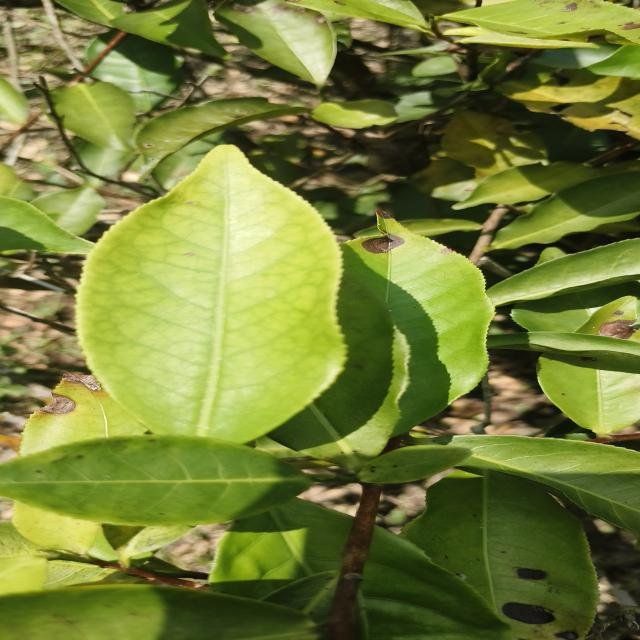Leaf: (77, 145, 346, 443), (270, 219, 491, 468), (404, 470, 599, 640), (0, 435, 312, 526), (436, 435, 640, 533), (0, 585, 315, 640), (362, 527, 509, 640), (210, 498, 354, 600), (136, 98, 305, 179), (488, 173, 640, 251), (20, 373, 146, 457), (215, 0, 336, 85), (58, 0, 226, 57), (443, 0, 640, 46), (537, 352, 640, 437), (511, 282, 640, 342), (92, 34, 183, 112), (442, 110, 546, 177), (453, 162, 599, 209), (13, 502, 116, 560), (51, 82, 135, 151), (0, 196, 94, 254), (486, 332, 640, 364), (358, 444, 471, 483), (31, 187, 105, 235), (311, 99, 397, 129), (399, 218, 481, 237), (86, 29, 116, 63), (538, 248, 565, 263), (355, 227, 377, 237)
